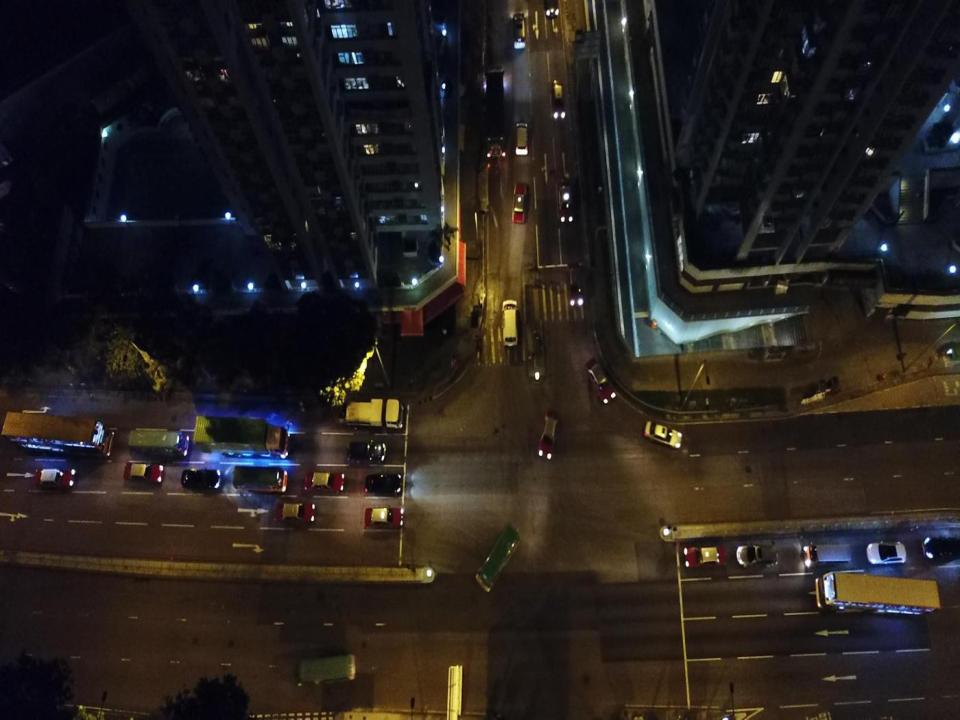bus: (814, 570, 942, 620), (2, 410, 114, 459), (475, 522, 522, 592), (295, 652, 356, 687), (127, 428, 190, 460), (232, 465, 287, 494)
car: (584, 355, 616, 406), (865, 538, 908, 566), (643, 419, 684, 448), (537, 406, 559, 460), (736, 541, 778, 568), (921, 534, 960, 562), (684, 544, 728, 568), (32, 467, 76, 490), (123, 462, 164, 486), (364, 472, 403, 497), (303, 470, 345, 493), (346, 439, 386, 463), (500, 299, 520, 347), (362, 507, 404, 529), (274, 502, 316, 524), (180, 468, 222, 490), (565, 260, 584, 306), (556, 176, 574, 223), (512, 180, 528, 225), (551, 79, 566, 119), (514, 122, 530, 156), (512, 11, 526, 49)
truck: (193, 414, 290, 459), (335, 397, 404, 432), (484, 70, 508, 158)
van: (801, 541, 852, 568)
